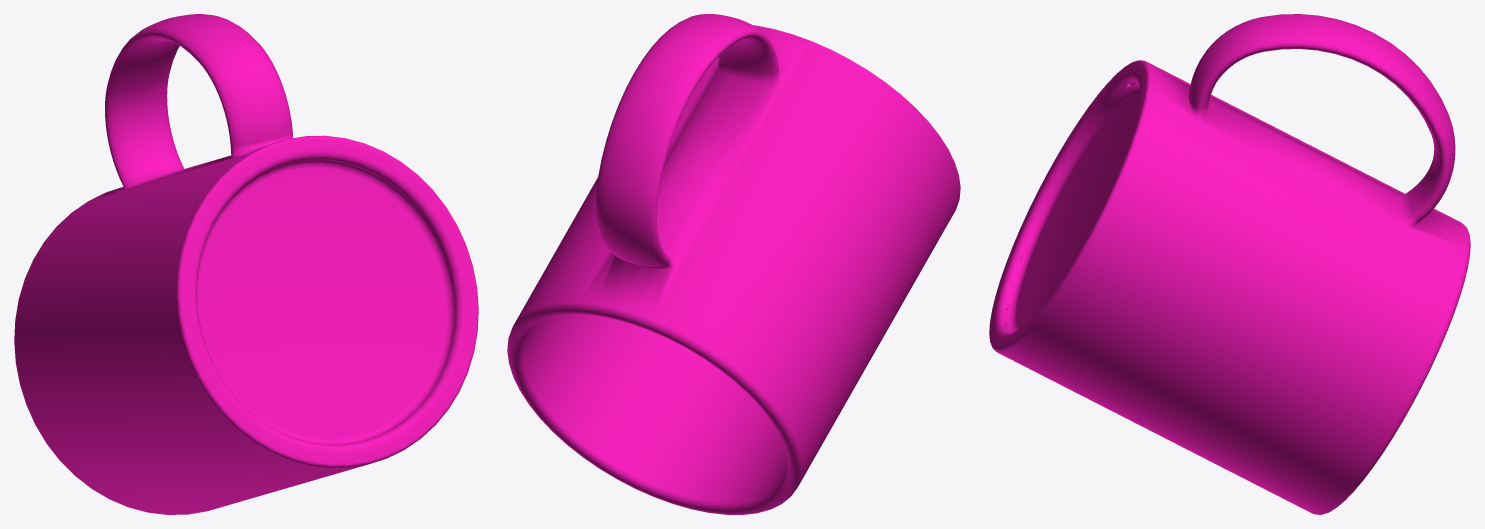
The model's file is mug1_5.dae.
3 renders of one model, left to right at view 1: azimuth 30°, elevation 25°; view 2: azimuth 150°, elevation 25°; view 3: azimuth 270°, elevation 25°, orthographic. The views are drawn at different scales.
Parts seen in each view (by area): view 1: mug1_019; view 2: mug1_019; view 3: mug1_019.
Part boxes in pixels (x1=…): mug1_019: x1=14, y1=14, x2=478, y2=514; mug1_019: x1=507, y1=14, x2=960, y2=514; mug1_019: x1=989, y1=14, x2=1470, y2=514.
Size of the model in its own units: 0.1633 by 0.2405 by 0.2623.
